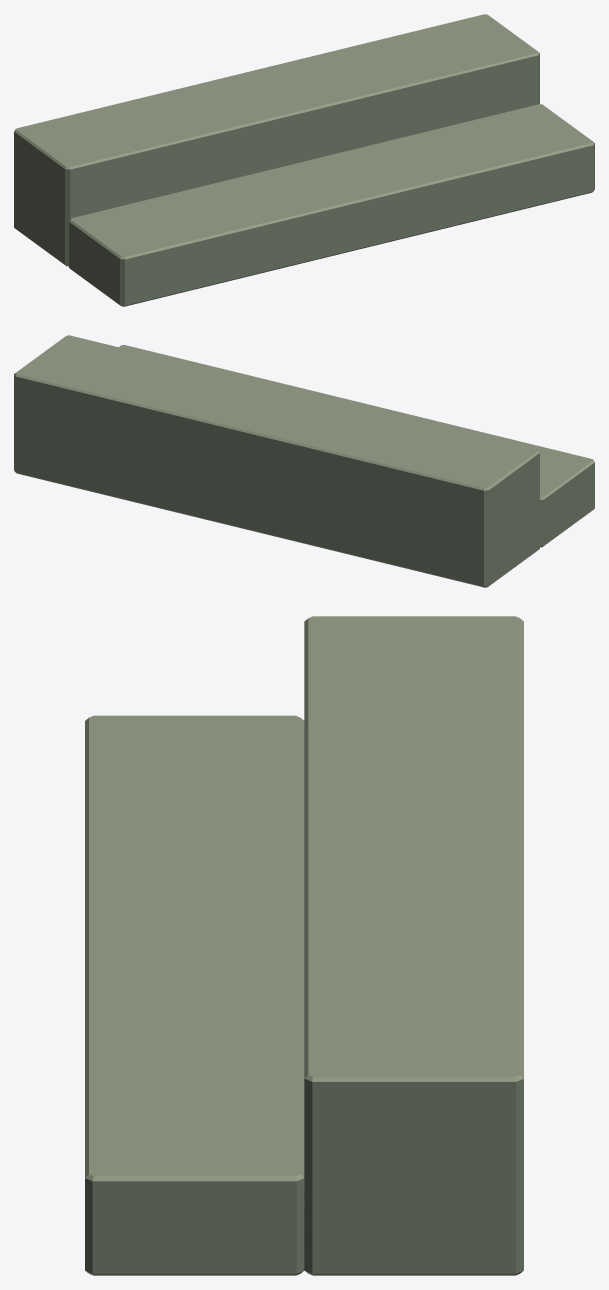
The model's file is stair-short.glb.
The picture shows the model from 3 angles, top to bottom: view 1: azimuth 30°, elevation 25°; view 2: azimuth 150°, elevation 25°; view 3: azimuth 270°, elevation 25°; orthographic projection. The views are drawn at different scales.
Visible parts, largest first — view 1: stair-short__body; view 2: stair-short__body; view 3: stair-short__body.
Boxes of the visible parts, box(x1,y1,x2,y2) form: stair-short__body: box(14, 14, 594, 306); stair-short__body: box(14, 335, 594, 587); stair-short__body: box(85, 616, 523, 1275).
Bounding box in the file's own units: 2 × 0.4 × 0.8.
